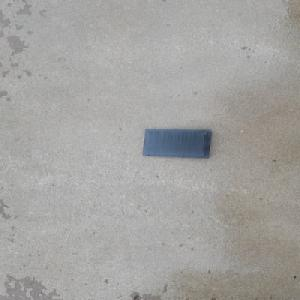PlasticPart: (142, 128, 213, 159)
